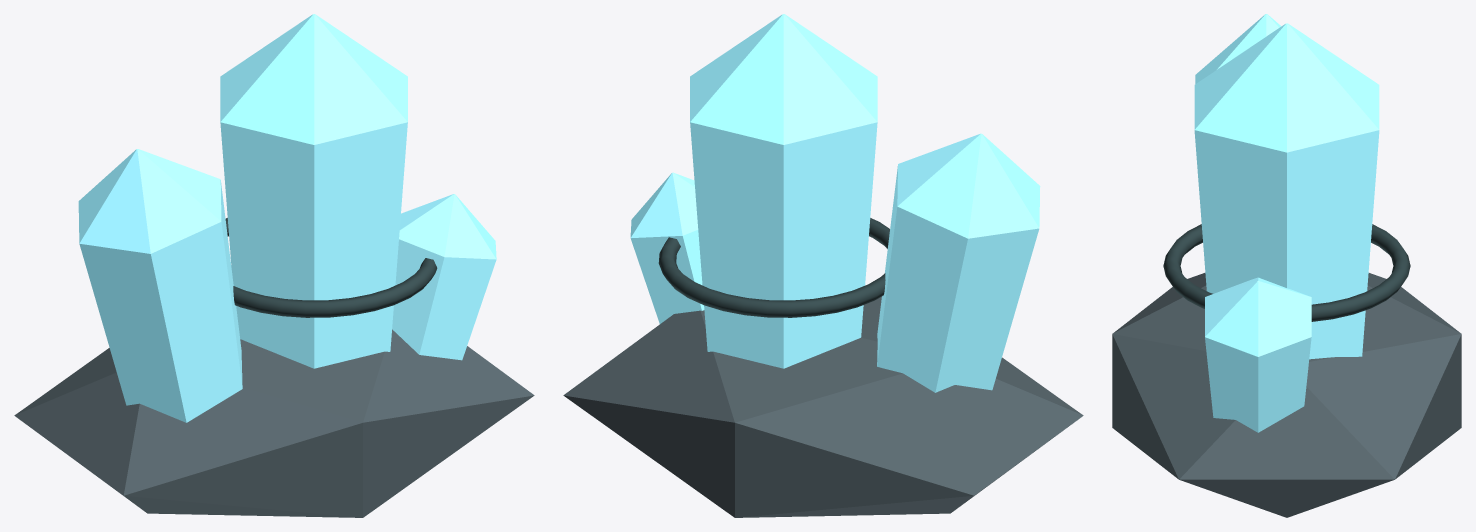
File: field-crystal.glb
3 views of the same model, side by side, from view 1: azimuth 30°, elevation 25°; view 2: azimuth 150°, elevation 25°; view 3: azimuth 270°, elevation 25° (orthographic).
Visible parts, largest first — view 1: Vesper / field-crystal; view 2: Vesper / field-crystal; view 3: Vesper / field-crystal.
Part boxes in pixels (x1=…): Vesper / field-crystal: x1=14, y1=14, x2=534, y2=517; Vesper / field-crystal: x1=563, y1=14, x2=1083, y2=517; Vesper / field-crystal: x1=1112, y1=14, x2=1461, y2=517.
Size of the model in its own units: 1.14 by 1.21 by 0.8507.
